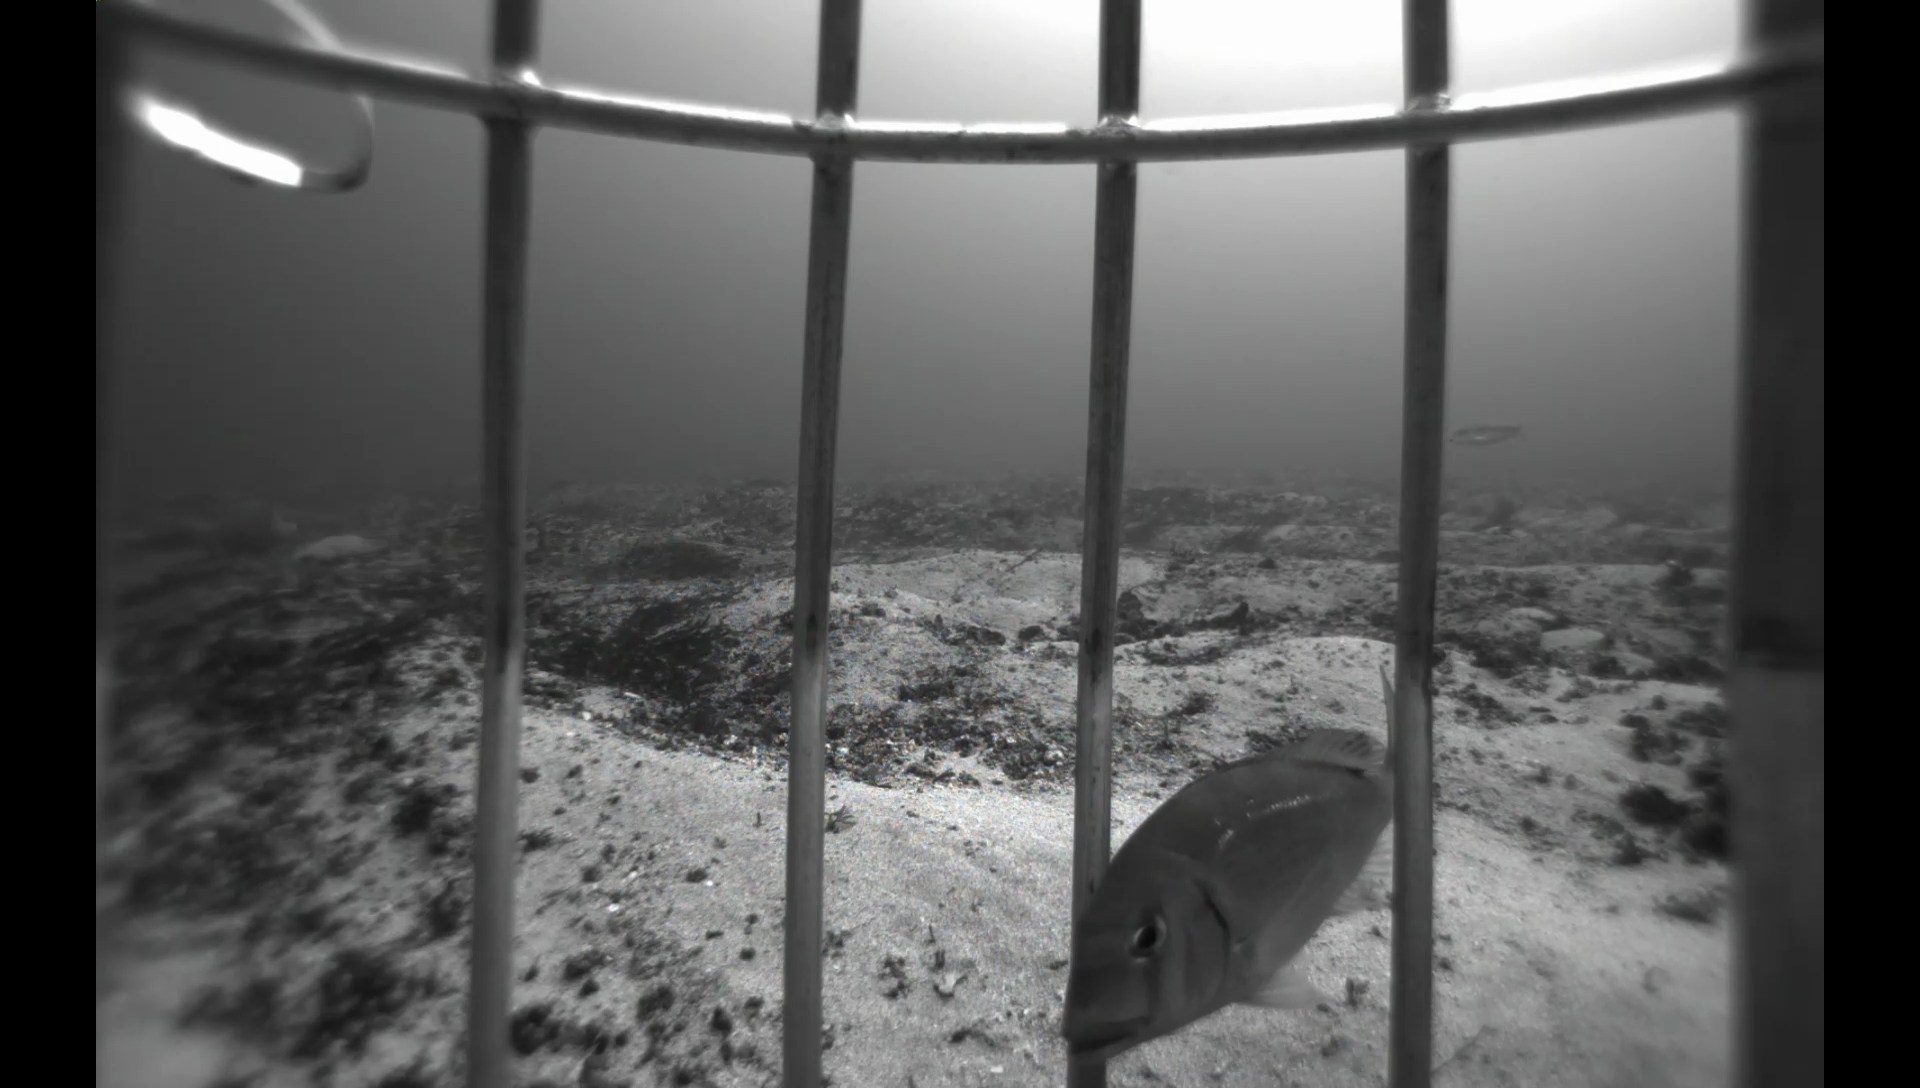MALACANTHUSPLUMIERI-170070301: (1443, 418, 1532, 451)
PAGRUSPAGRUS-170212302: (1054, 649, 1399, 1075)
POMACANTHUSARCUATUS-170290201: (170, 489, 303, 571)
